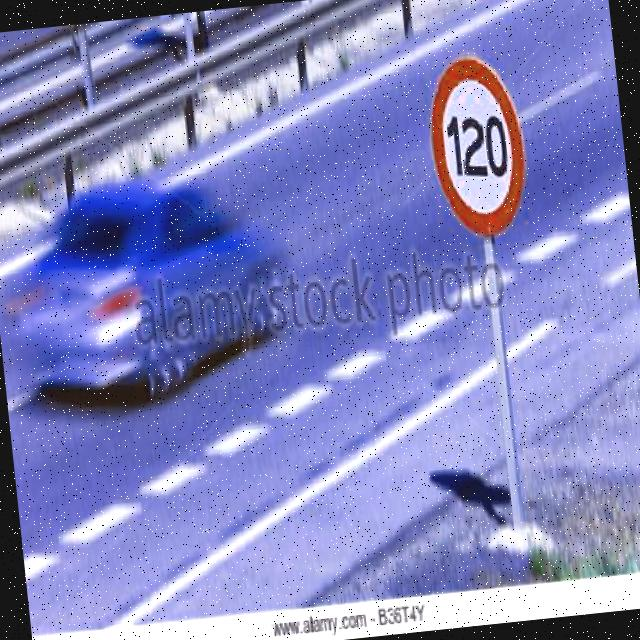Ograniczenie predkosci do 120: (423, 57, 529, 247)
